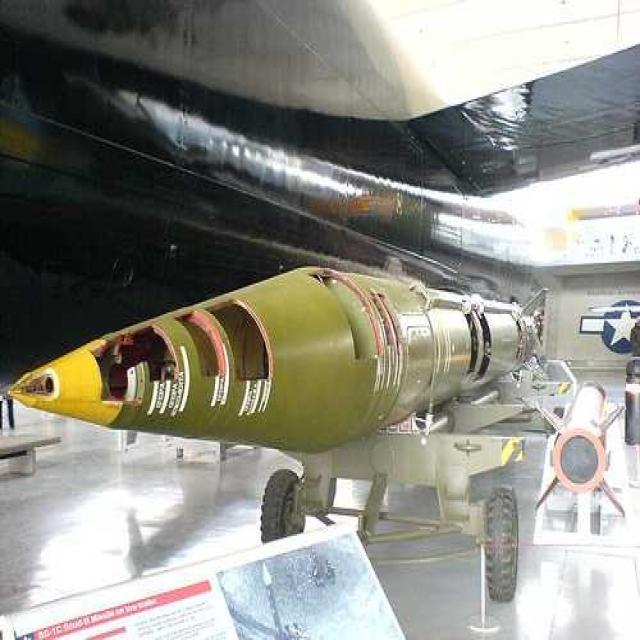missile: (12, 268, 553, 516), (539, 371, 631, 524)
